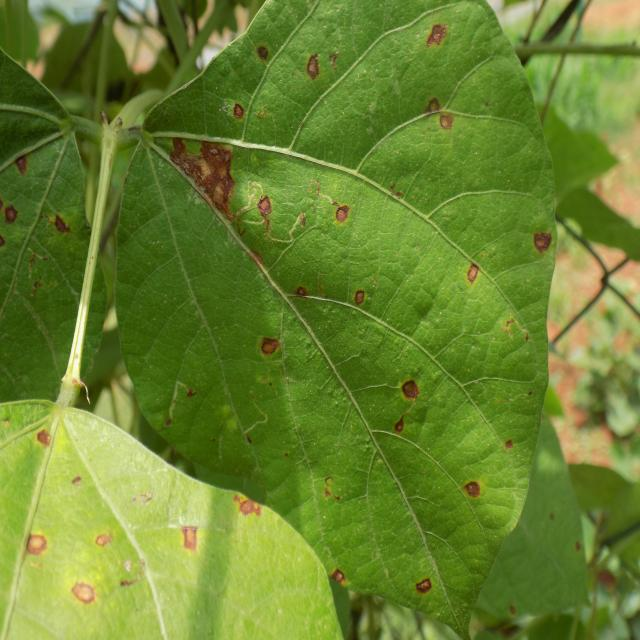Dolicos bean_cercospora leaf spot: (107, 0, 558, 629)
